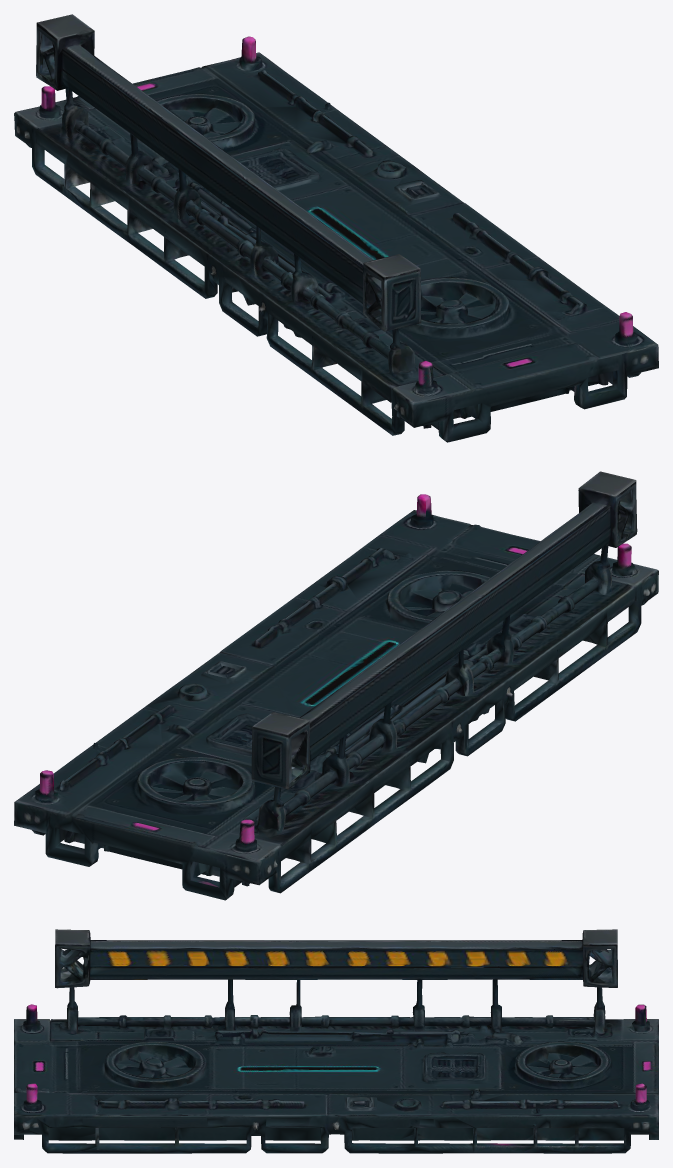
Rendered from CeilingZone2.fbx.
The picture shows the model from 3 angles, top to bottom: view 1: azimuth 30°, elevation 25°; view 2: azimuth 150°, elevation 25°; view 3: azimuth 270°, elevation 25°; orthographic projection. The views are drawn at different scales.
Parts seen in each view (by area): view 1: tripo_node_9813582f; view 2: tripo_node_9813582f; view 3: tripo_node_9813582f.
Part boxes in pixels (x1=…): tripo_node_9813582f: x1=14, y1=14, x2=658, y2=442; tripo_node_9813582f: x1=14, y1=471, x2=658, y2=900; tripo_node_9813582f: x1=14, y1=929, x2=658, y2=1153.
Size of the model in its own units: 0.3685 by 0.2162 by 0.9998.
1 material, 1 textured.
